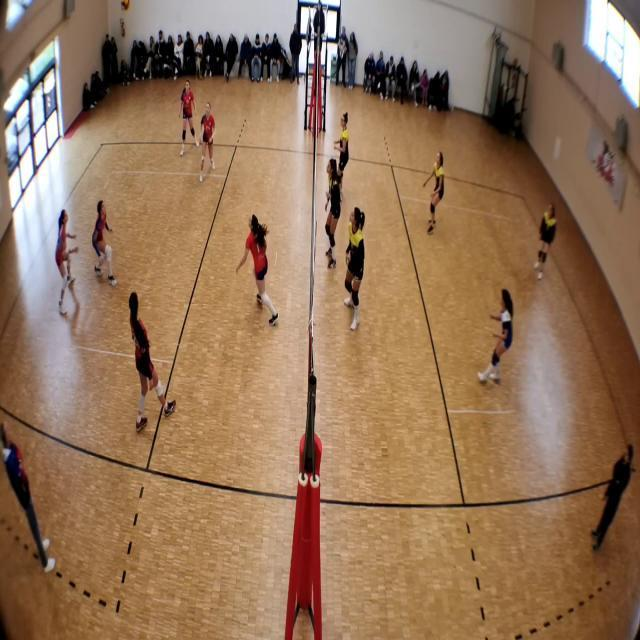volleyball: (120, 0, 129, 9)
